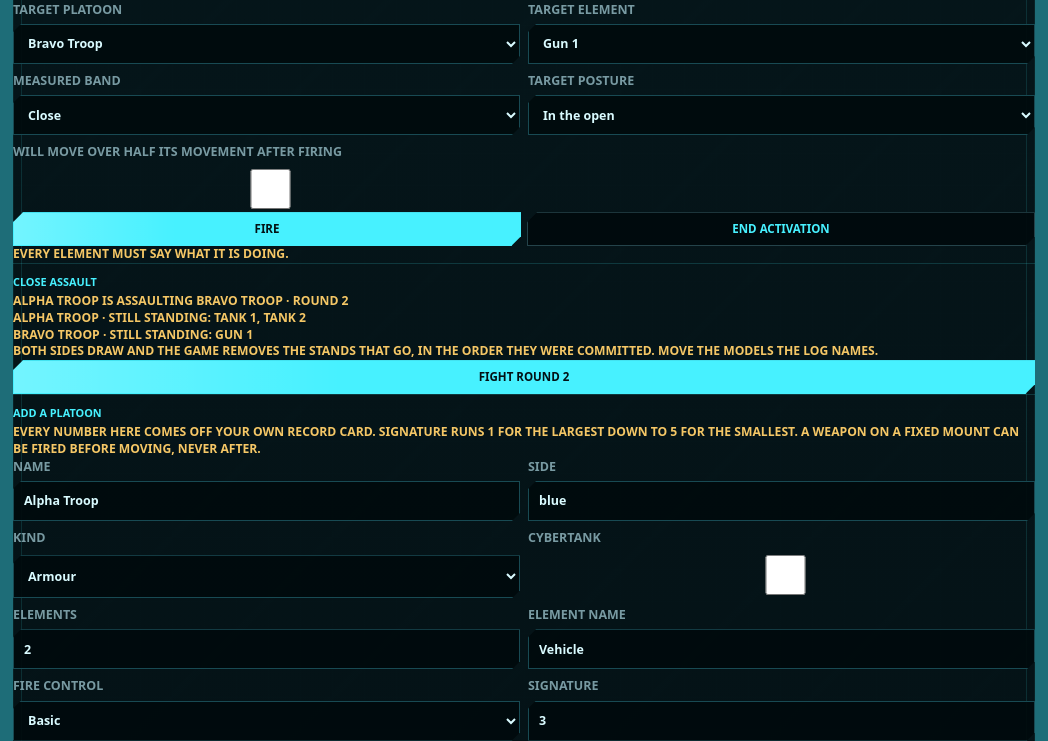
Scenario: Dirtside close assault › fights the round the assault is waiting on
The width and height of the screenshot is (1048, 741).
(page scrolled)
Click the button "Fight Round 2" at point(524, 377), box [13,360,1035,394]
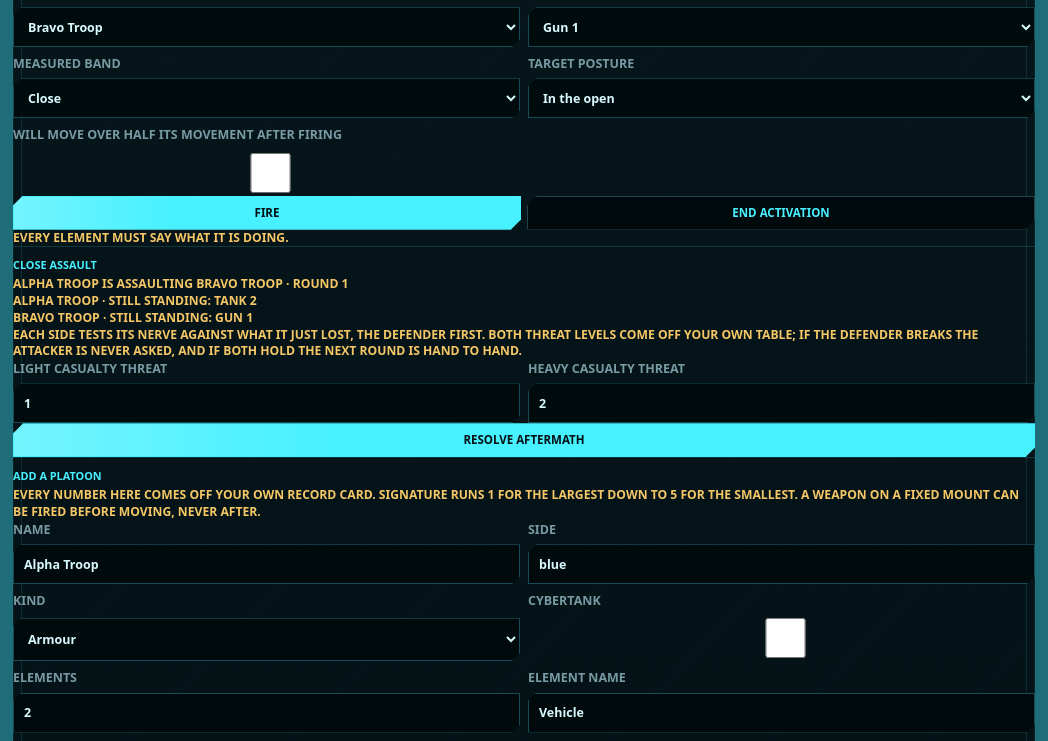
Check: the text "Bravo Troop · Still standing: Gun 1" is shown, box [13,309,253,326]
Check: the button "Resolve Aftermath" is shown, box [13,423,1035,457]
Check: the text "Alpha Troop · Still standing: Tank 2" is shown, box [13,292,257,309]
